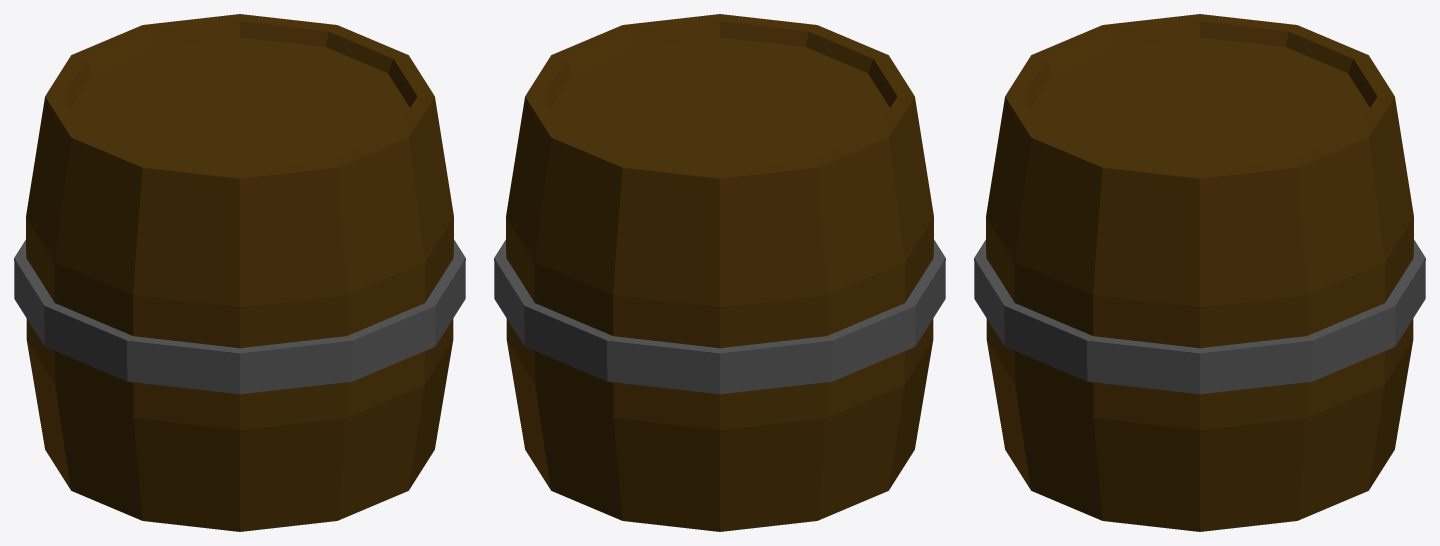
File: barrel.fbx
The picture shows the model from 3 angles, left to right: view 1: azimuth 30°, elevation 25°; view 2: azimuth 150°, elevation 25°; view 3: azimuth 270°, elevation 25°; orthographic projection.
Visible parts, largest first — view 1: Circle; view 2: Circle; view 3: Circle.
Part boxes in pixels (left/top/right/bottom): Circle: left=14, top=14, right=465, bottom=531; Circle: left=494, top=14, right=945, bottom=531; Circle: left=974, top=14, right=1425, bottom=531.
Bounding box in the file's own units: 174 × 150 × 174.
